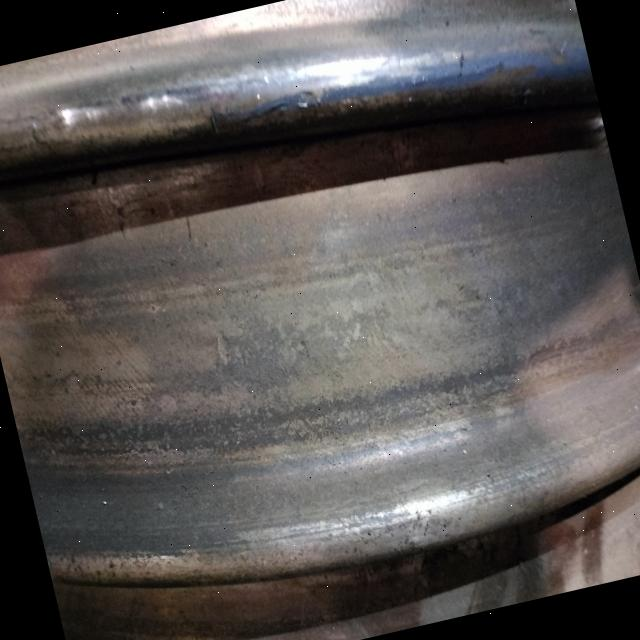Contact_Fatigue_Cracks: (190, 24, 551, 156)
Peeling: (37, 413, 208, 496), (270, 390, 398, 461)
